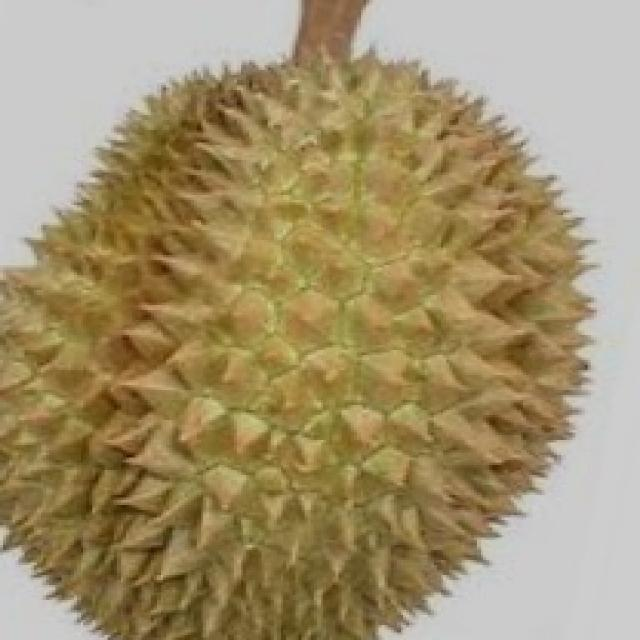fruit: (231, 260, 634, 640), (0, 262, 369, 640)
